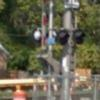traffic lights: (57, 30, 69, 45), (73, 31, 85, 44)
